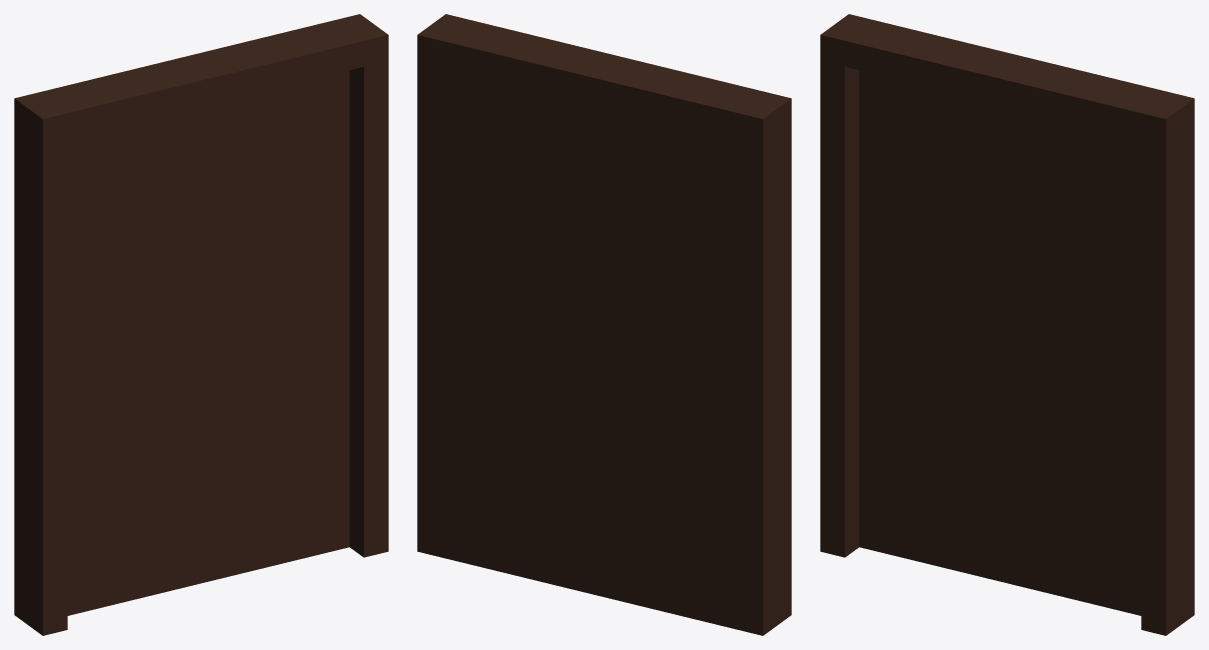
Rendered from door.fbx.
3 views of the same model, side by side, from view 1: azimuth 30°, elevation 25°; view 2: azimuth 150°, elevation 25°; view 3: azimuth 330°, elevation 25° (orthographic).
Visible parts, largest first — view 1: 1.002; view 2: 1.002; view 3: 1.002.
Part boxes in pixels (<box>): 1.002: <box>14,14,388,635</box>; 1.002: <box>417,14,791,635</box>; 1.002: <box>820,14,1194,635</box>.
Bounding box in the file's own units: 1.4 × 2 × 0.2.
